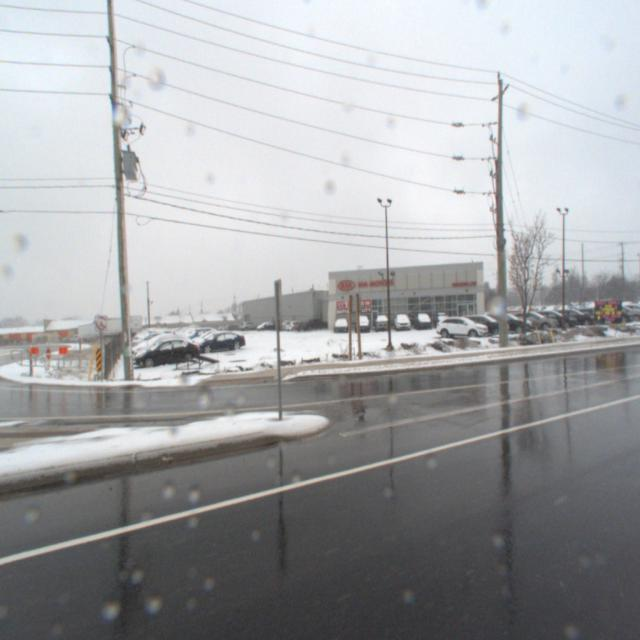Car: (132, 334, 200, 366), (129, 331, 193, 361), (432, 317, 488, 342), (188, 329, 246, 351), (454, 316, 508, 339), (502, 313, 556, 335), (477, 314, 530, 336), (409, 314, 431, 331), (391, 314, 409, 332), (372, 314, 388, 332), (332, 316, 348, 333)
